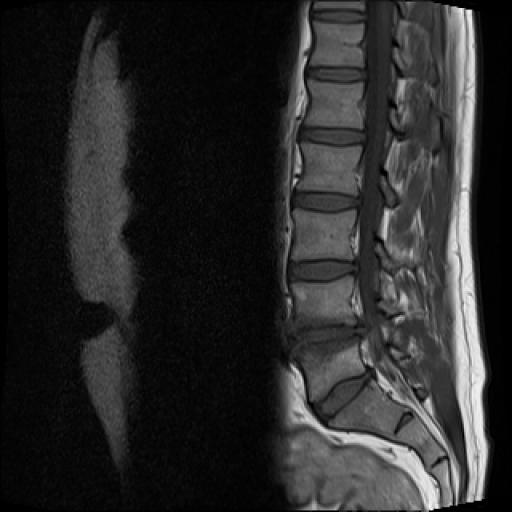L1: (304, 79, 362, 129)
L2: (298, 144, 360, 196)
L3: (291, 209, 356, 260)
L4: (291, 276, 354, 328)
L5: (296, 336, 366, 403)
S1: (326, 379, 405, 440)
